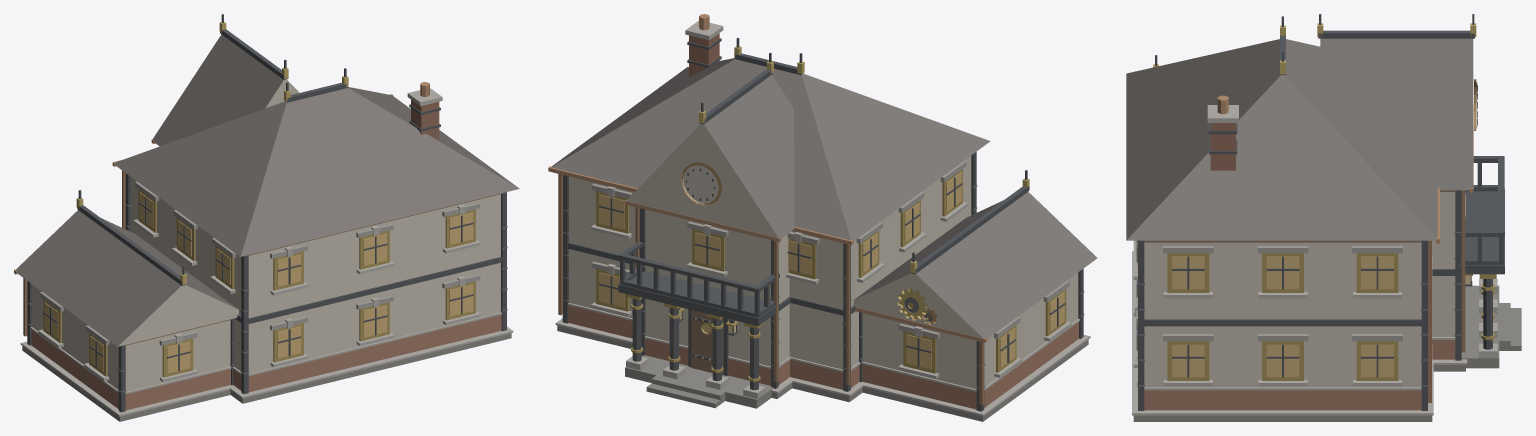
File: casa-n06-35149895.glb
3 views of the same model, side by side, from view 1: azimuth 30°, elevation 25°; view 2: azimuth 150°, elevation 25°; view 3: azimuth 270°, elevation 25° (orthographic). The views are drawn at different scales.
Parts seen in each view (by area): view 1: casa_n06, casa_n06_glow; view 2: casa_n06, casa_n06_glow; view 3: casa_n06, casa_n06_glow.
Part boxes in pixels (<box>): casa_n06: <box>14,14,519,421</box>; casa_n06_glow: <box>44,192,473,373</box>; casa_n06: <box>548,14,1097,421</box>; casa_n06_glow: <box>599,172,1064,369</box>; casa_n06: <box>1126,14,1521,421</box>; casa_n06_glow: <box>1137,241,1470,377</box>.
Size of the model in its own units: 14.8 by 9.39 by 10.6.
